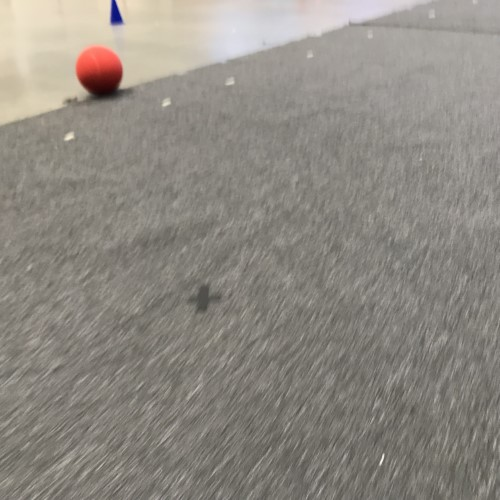red: (73, 42, 124, 95)
